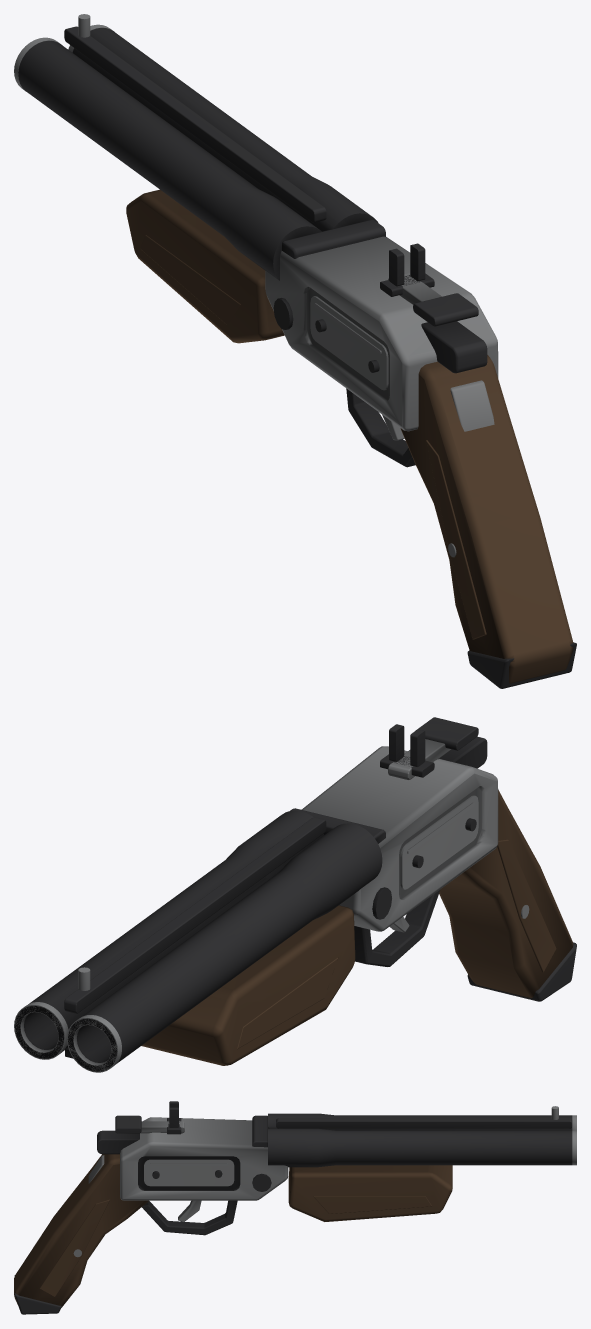
Rendered from grubber_sawnoff.glb.
3 views of the same model, one above another, from view 1: azimuth 30°, elevation 25°; view 2: azimuth 150°, elevation 25°; view 3: azimuth 270°, elevation 25° (orthographic). The views are drawn at different scales.
Visible parts, largest first — view 1: Receiver, Grip, BarrelL, Foregrip, BarrelR, Bolt, IronSights; view 2: Receiver, BarrelL, Grip, Foregrip, BarrelR, Bolt, IronSights; view 3: Receiver, BarrelR, Grip, Foregrip, BarrelL, Bolt, IronSights.
Boxes of the visible parts, <box> form: Receiver: <box>64,26,498,467</box>; Grip: <box>400,355,576,688</box>; BarrelL: <box>14,37,321,280</box>; Foregrip: <box>126,189,284,343</box>; BarrelR: <box>68,24,378,231</box>; Bolt: <box>388,273,478,326</box>; IronSights: <box>78,14,434,296</box>; Receiver: <box>64,736,498,1058</box>; BarrelL: <box>67,823,382,1072</box>; Grip: <box>439,790,576,1001</box>; Foregrip: <box>141,905,355,1065</box>; BarrelR: <box>14,810,323,1059</box>; Bolt: <box>388,717,478,779</box>; IronSights: <box>78,724,434,990</box>; Receiver: <box>97,1115,572,1235</box>; BarrelR: <box>268,1128,576,1167</box>; Grip: <box>14,1154,148,1314</box>; Foregrip: <box>288,1165,452,1221</box>; BarrelL: <box>268,1113,576,1130</box>; Bolt: <box>115,1115,184,1133</box>; IronSights: <box>167,1101,558,1134</box>.
Size of the model in its own units: 0.062 by 0.183 by 0.4681.
